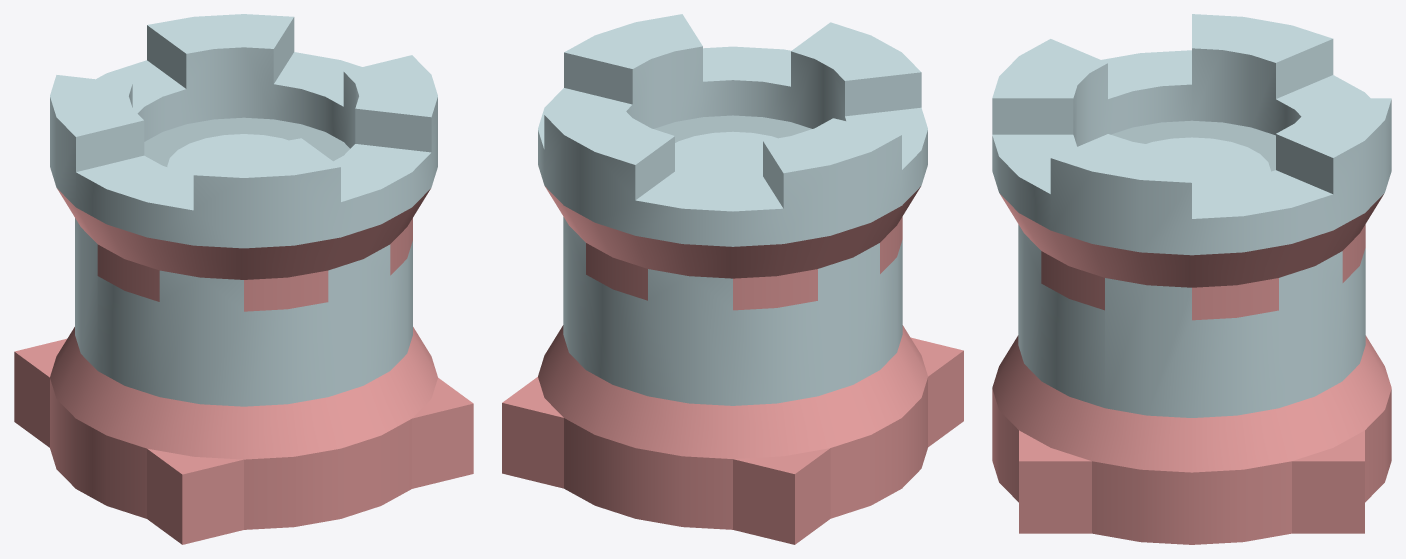
Rendered from towerRound_sampleE.glb.
3 views of the same model, side by side, from view 1: azimuth 30°, elevation 25°; view 2: azimuth 150°, elevation 25°; view 3: azimuth 270°, elevation 25° (orthographic). The views are drawn at different scales.
Visible parts, largest first — view 1: towerRound_sampleE; view 2: towerRound_sampleE; view 3: towerRound_sampleE.
Boxes of the visible parts, x1,y1,x2,y2 form: towerRound_sampleE: (14,14,473,544); towerRound_sampleE: (502,14,963,544); towerRound_sampleE: (992,14,1391,544).
Bounding box in the file's own units: 1 × 1 × 1.
